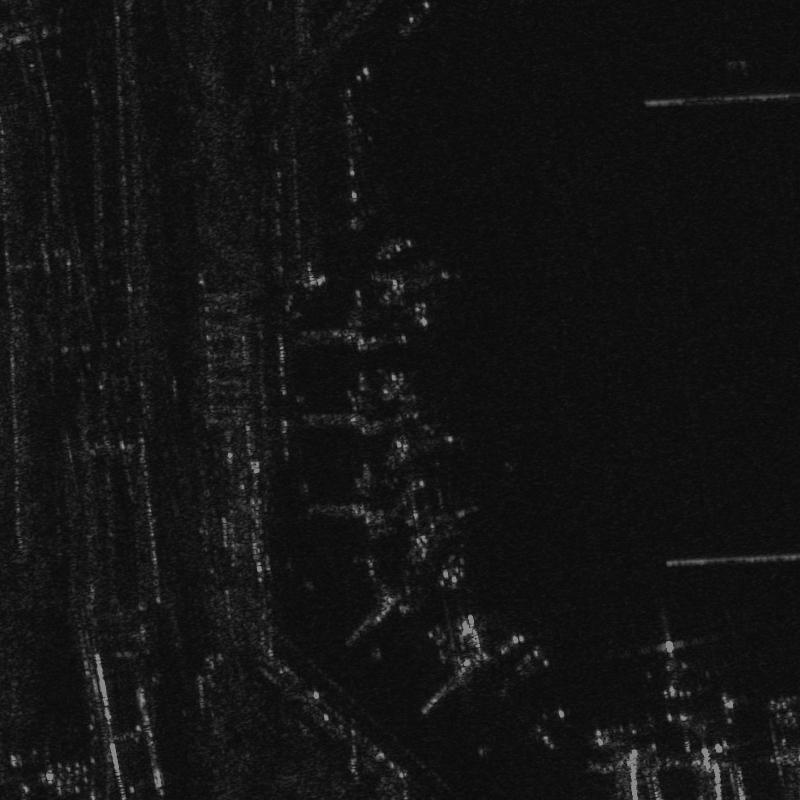A220: (640, 632, 711, 727)
